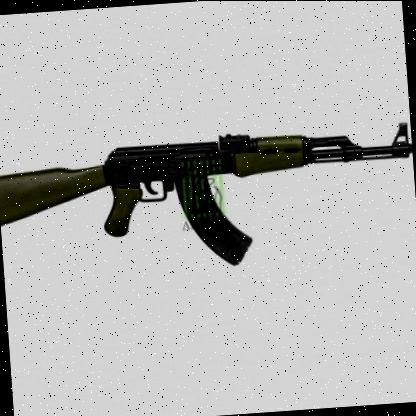rifle: (0, 88, 416, 290)
